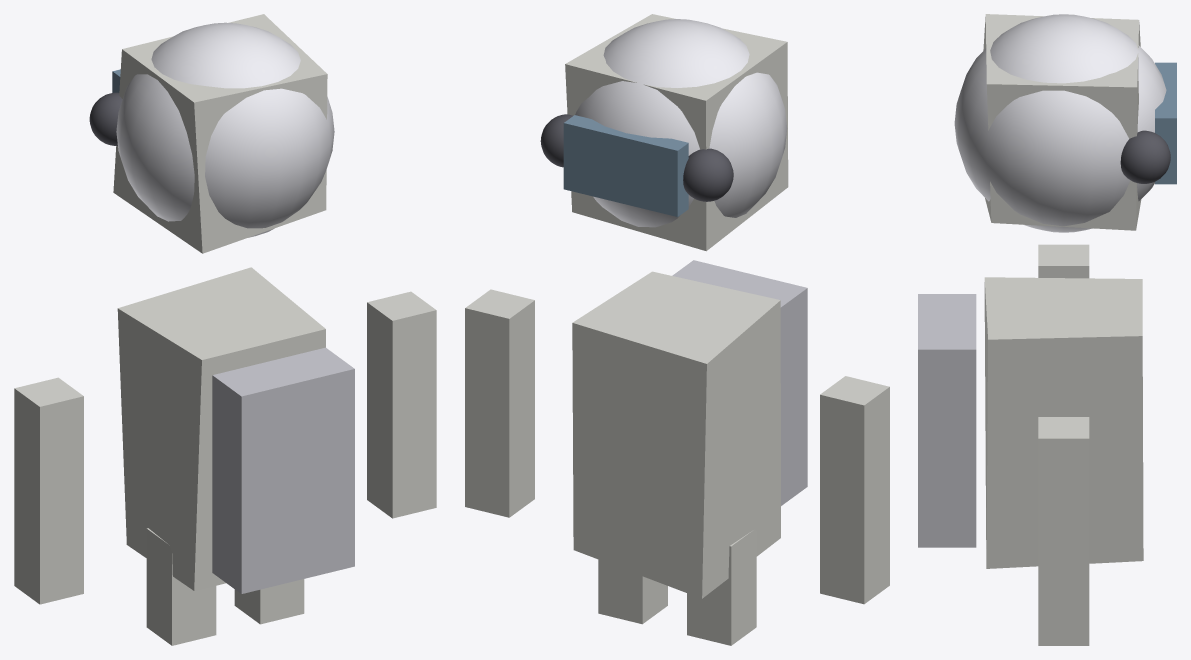
File: clay_blocky_astronaut.glb
3 renders of one model, left to right at view 1: azimuth 30°, elevation 25°; view 2: azimuth 150°, elevation 25°; view 3: azimuth 270°, elevation 25°, orthographic.
Visible parts, largest first — view 1: pack; view 2: pack; view 3: pack.
Part boxes in pixels (x1,y1,x2,y2): pack: (14, 14, 436, 645); pack: (465, 14, 889, 645); pack: (918, 14, 1176, 645).
Size of the model in its own units: 1.89 by 2.67 by 1.06.
